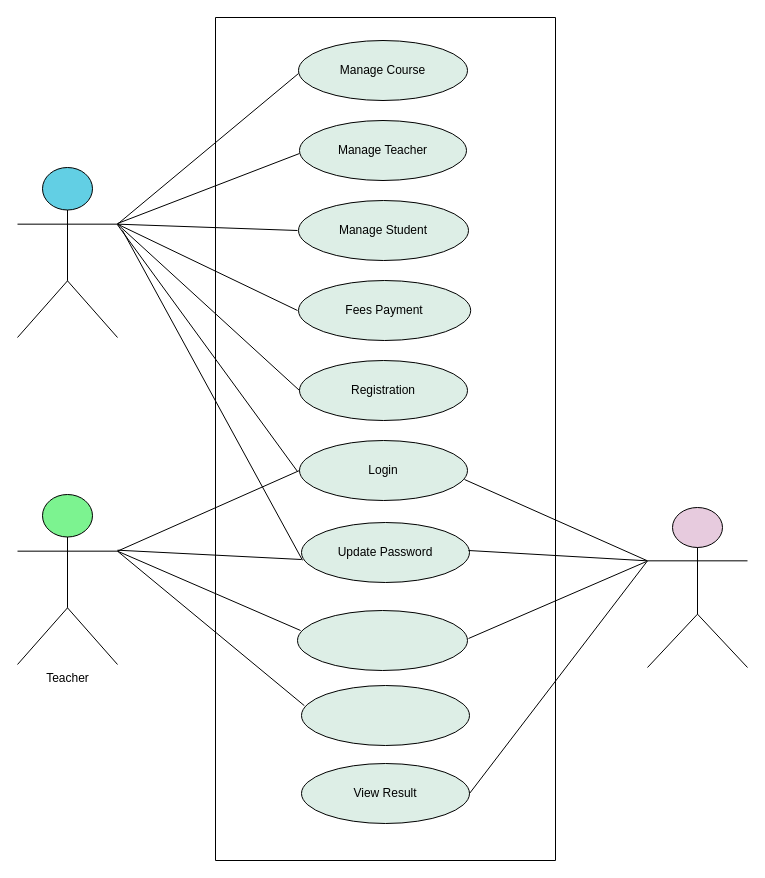
This 765x878 diagram has some shape labels left out. Each missing label, with the box of its shape:
Add Marks: (300, 684, 470, 746)
Admin: (16, 166, 118, 338)
Student: (646, 506, 748, 668)
View Profile: (296, 610, 468, 670)
